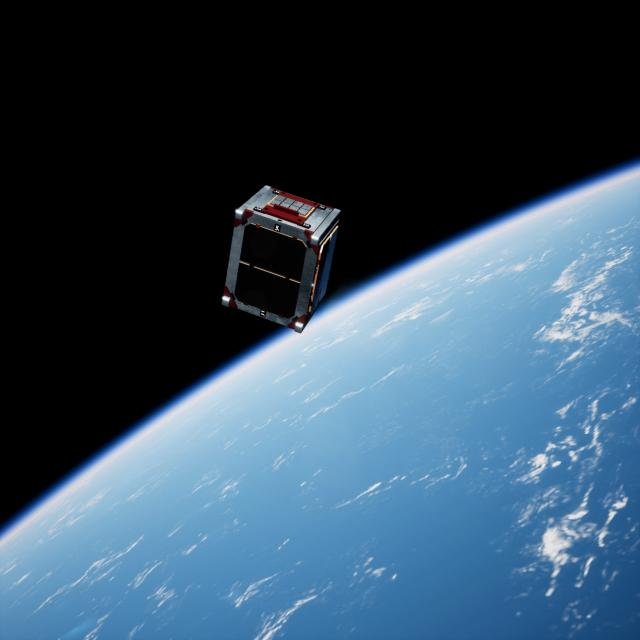satellite: (209, 181, 347, 330)
